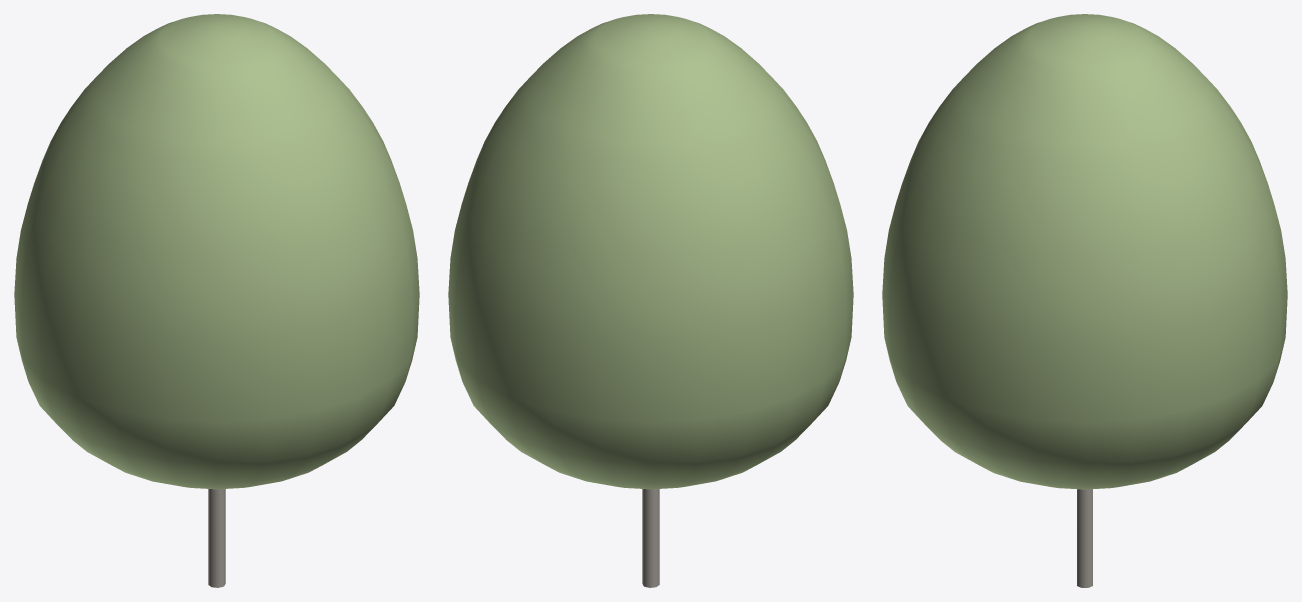
File: RobiniaPseudoacacia.glb
3 renders of one model, left to right at view 1: azimuth 30°, elevation 25°; view 2: azimuth 150°, elevation 25°; view 3: azimuth 270°, elevation 25°, orthographic.
Parts seen in each view (by area): view 1: Black_Locust__Schematic_LOD3; view 2: Black_Locust__Schematic_LOD3; view 3: Black_Locust__Schematic_LOD3.
Boxes of the visible parts, x1,y1,x2,y2 form: Black_Locust__Schematic_LOD3: (14, 14, 419, 587); Black_Locust__Schematic_LOD3: (448, 14, 853, 587); Black_Locust__Schematic_LOD3: (882, 14, 1287, 587).
Bounding box in the file's own units: 17.98 × 27.25 × 17.98.
